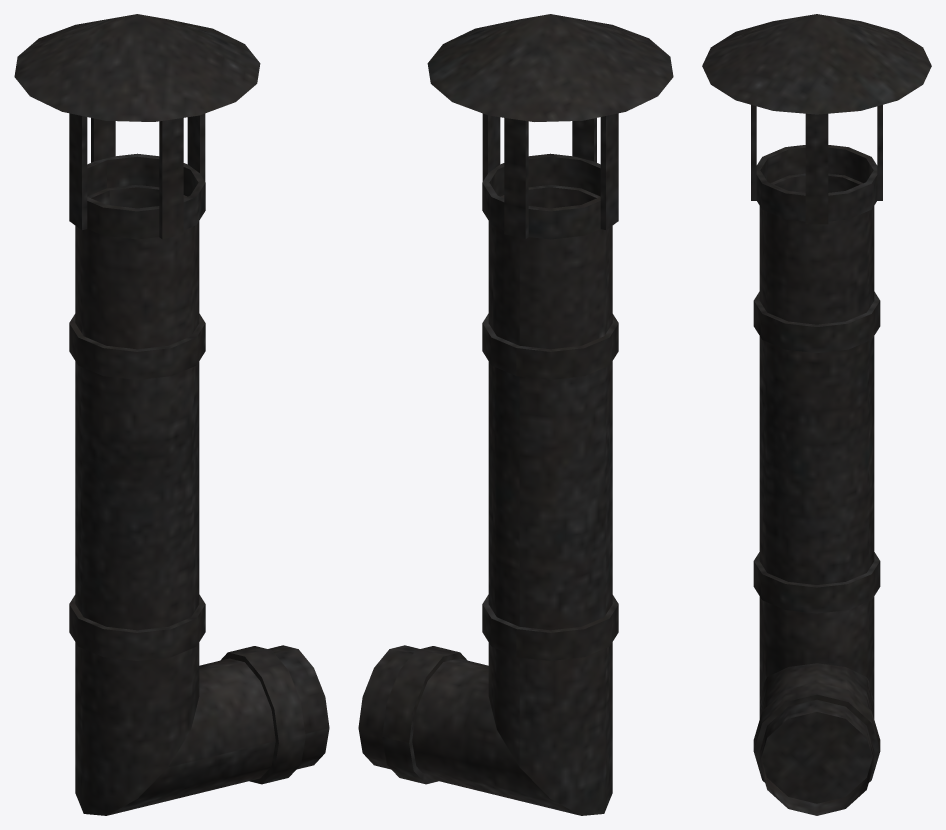
The model's file is chimney_a_3.dae.
3 views of the same model, side by side, from view 1: azimuth 30°, elevation 25°; view 2: azimuth 150°, elevation 25°; view 3: azimuth 270°, elevation 25° (orthographic). The views are drawn at different scales.
Visible parts, largest first — view 1: chimney_a_3; view 2: chimney_a_3; view 3: chimney_a_3.
Part boxes in pixels (x1,y1,x2,y2): chimney_a_3: (14, 14, 329, 815); chimney_a_3: (358, 14, 673, 815); chimney_a_3: (702, 14, 931, 815).
Size of the model in its own units: 0.5 by 0.4 by 1.41.
Materials: 1 (1 with a texture image).
